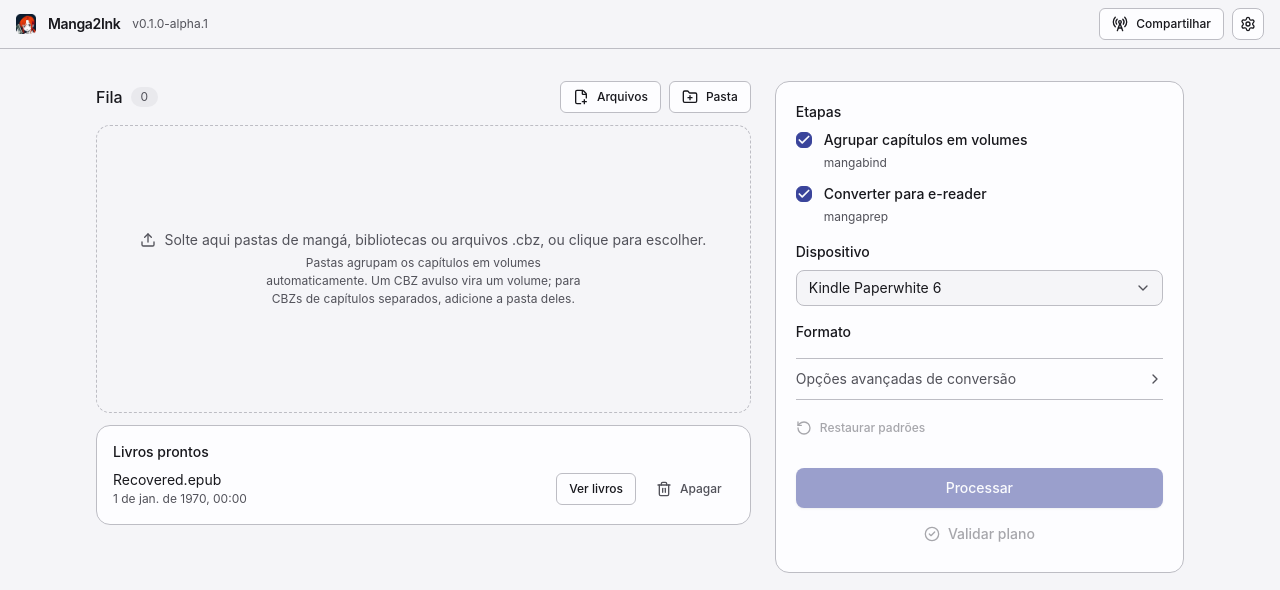
Test case: the books of an earlier conversion, in Portuguese › says how they were made when they are opened from the queue
Click the button with aria-label "Ver os livros de Recovered.epub" at (596, 489), box [556,473,636,505]
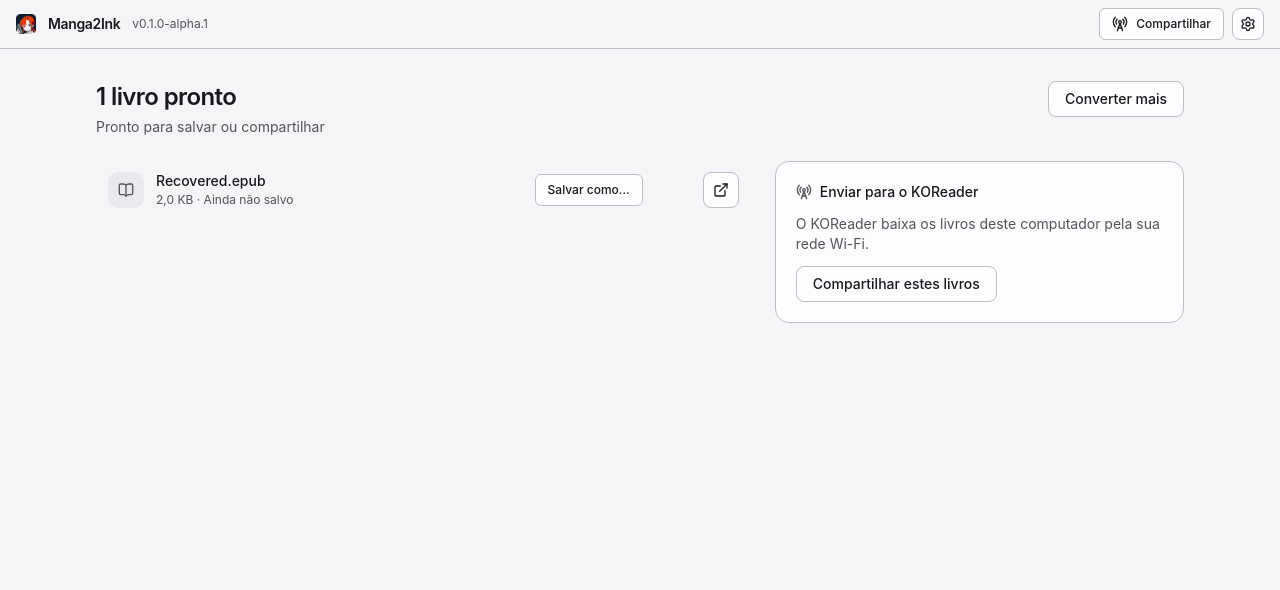
Result: the heading "1 livro pronto" is shown at [96,81,236,113]
Result: the text "Pronto para salvar ou compartilhar" is shown at [96,118,325,135]
Result: the text "2,0 KB · Ainda não salvo" is shown at [156,192,294,207]
